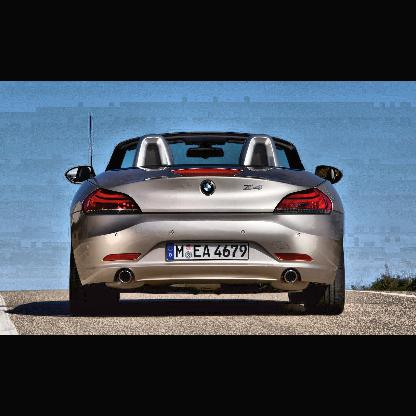BMW Z4 Convertible 2012: (65, 116, 345, 317)
